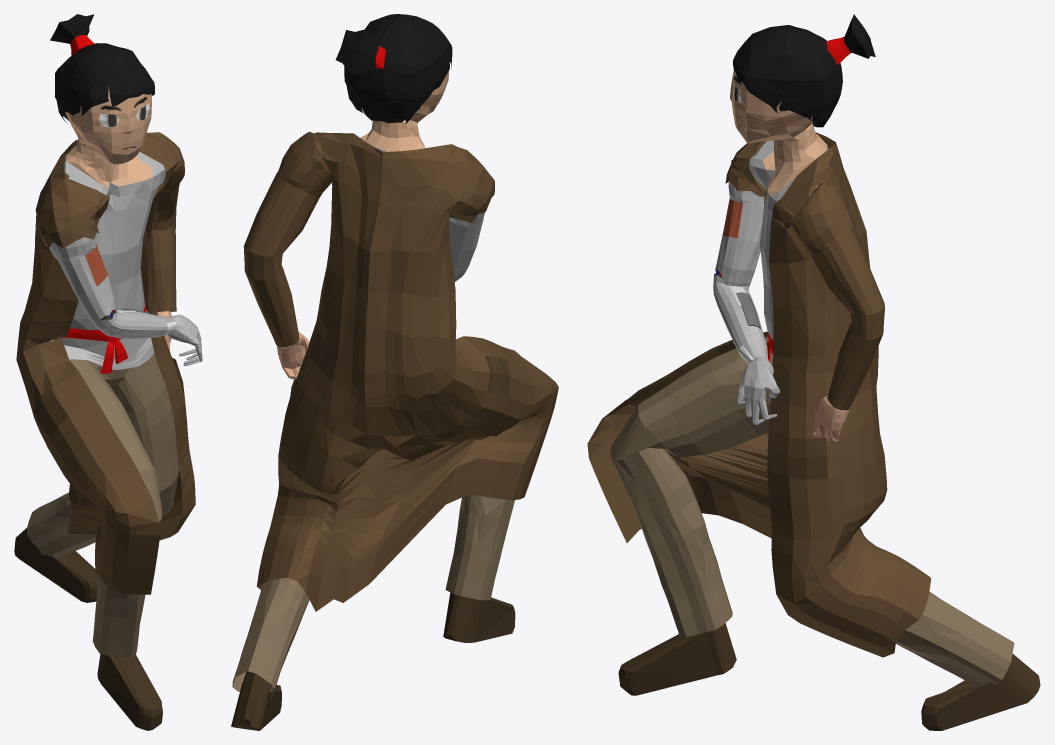
Rendered from One_DB_000002.obj.
The picture shows the model from 3 angles, left to right: view 1: azimuth 30°, elevation 25°; view 2: azimuth 150°, elevation 25°; view 3: azimuth 270°, elevation 25°; orthographic projection. The views are drawn at different scales.
Parts seen in each view (by area): view 1: Hair_Cube.004; view 2: Hair_Cube.004; view 3: Hair_Cube.004.
Boxes of the visible parts, box(x1,y1,x2,y2) form: Hair_Cube.004: box(14, 14, 202, 730); Hair_Cube.004: box(231, 14, 558, 730); Hair_Cube.004: box(587, 14, 1040, 730).
Size of the model in its own units: 1.09 by 3.5 by 2.09.
